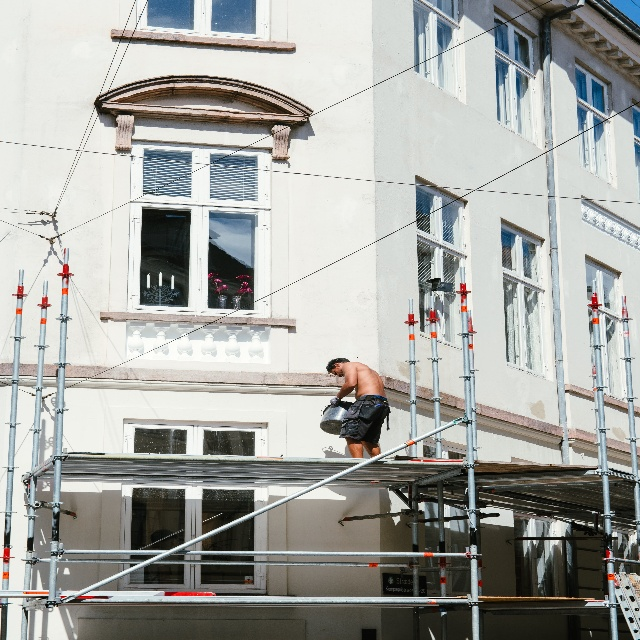Guantes: (329, 395, 341, 405)
